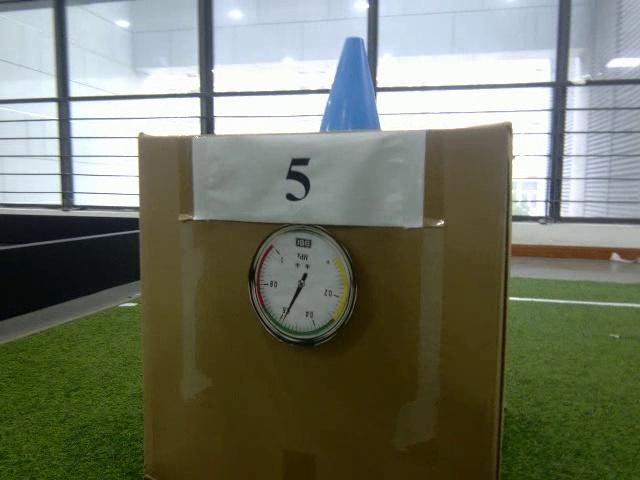5: (287, 157, 311, 200)
Dashboard: (250, 223, 358, 346)
blue_barrel: (321, 35, 378, 131)
ssi: (294, 237, 312, 250)
